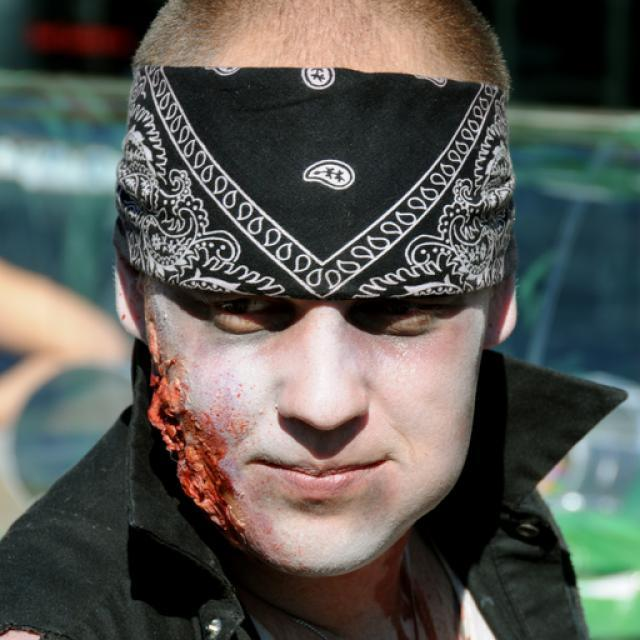content: (138, 225, 488, 574)
